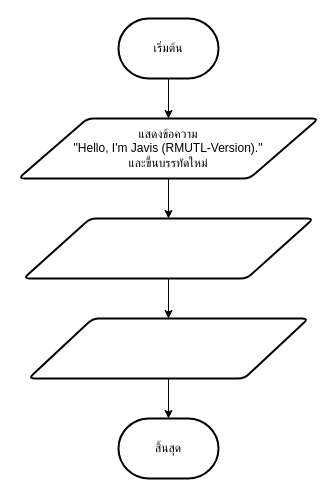
Some shapes in this 336 by 496 pixel diagram are drawn without their labels. The box of each missing label's shape, as (x1, y1, x2, y2) in pixels:
แสดงข้อความ "This is my first time to coding with C language." และขึ้นบรรทัดใหม่: (22, 217, 314, 279)
แสดงข้อความ "Today is my birthday." และขึ้นบรรทัดใหม่: (27, 317, 309, 379)
